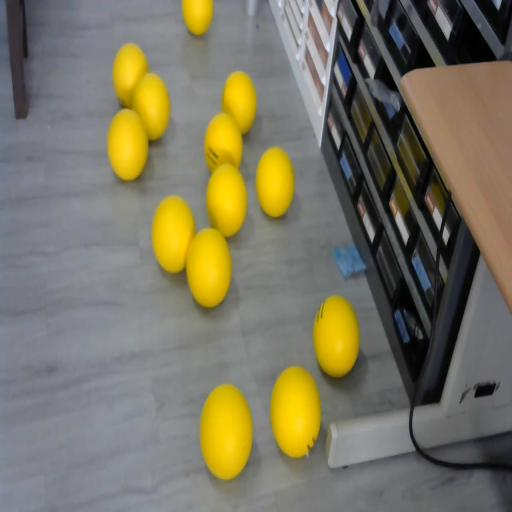FUEL: (199, 382, 253, 478), (270, 366, 322, 457), (312, 294, 360, 378), (185, 225, 233, 308), (151, 195, 195, 273), (205, 162, 248, 237), (107, 108, 149, 181), (256, 146, 294, 218), (112, 43, 148, 108), (222, 70, 258, 134), (182, 0, 214, 36)
